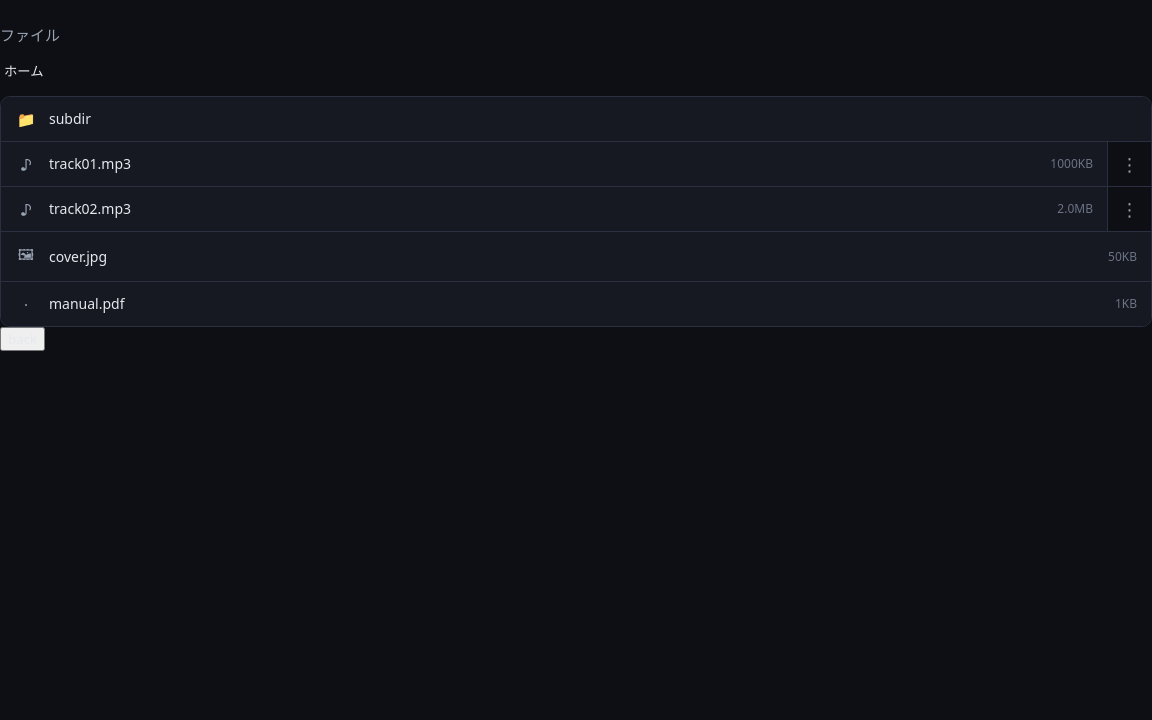
FileBrowser ボトムシートの開閉 › ⋮ クリックでシートが開き、ファイル名と 3 アクション・キャンセルが表示される
Expected: the text "track01.mp3" is shown, [49,154,131,173]
Click the button named "track01.mp3 のキュー操作": (1129, 164) [1107,142,1151,186]
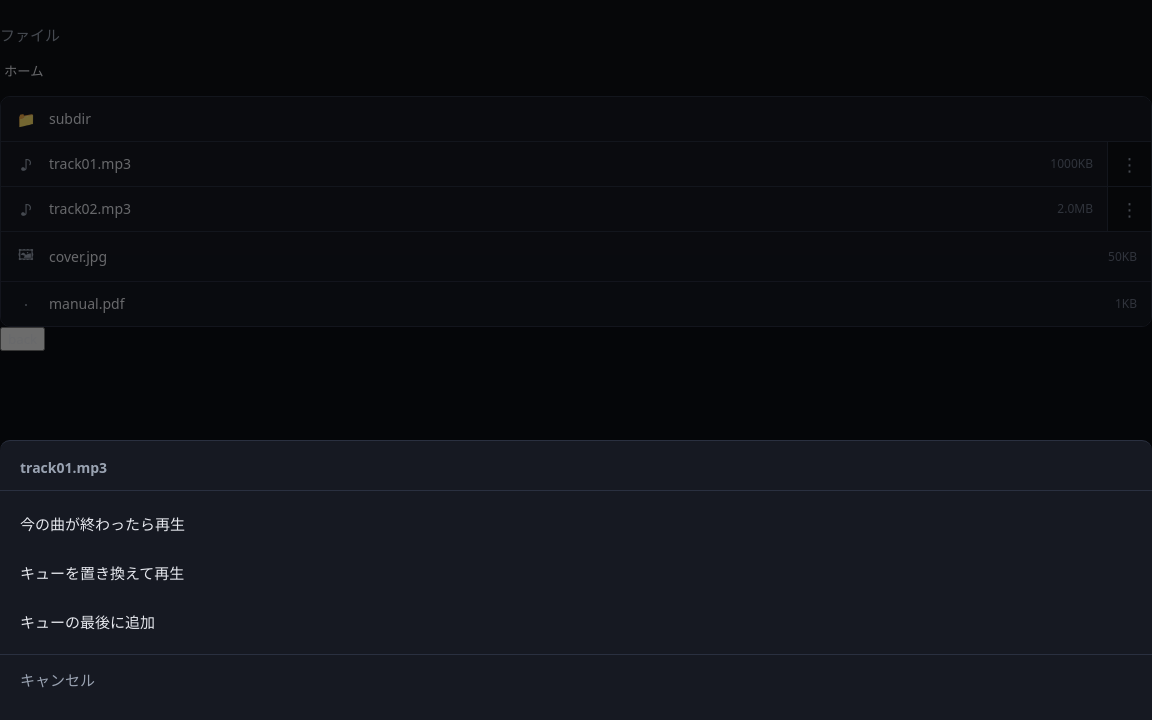
Expected: the dialog named "track01.mp3 のキュー操作" is shown, [0,440,1151,719]
Expected: the button "今の曲が終わったら再生" is shown, [0,499,1151,548]
Expected: the button "キューを置き換えて再生" is shown, [0,548,1151,597]
